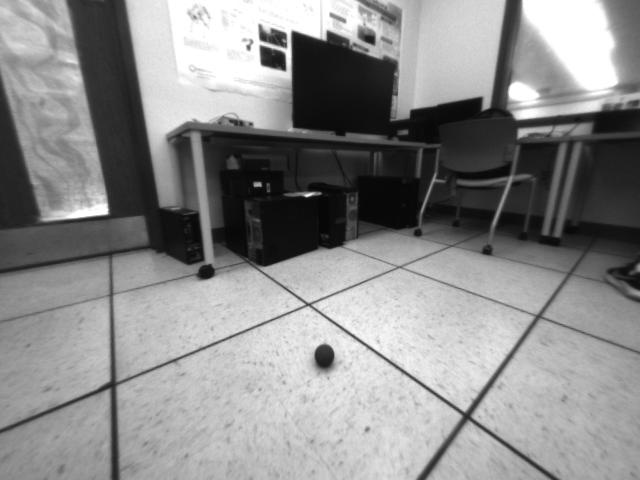dogtoy: (309, 340, 343, 371)
